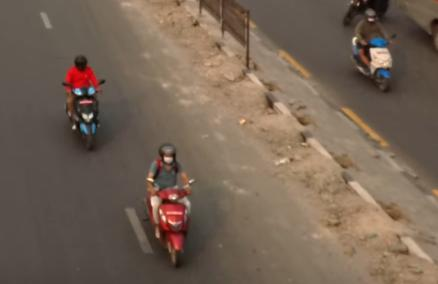scooter: (148, 178, 200, 268), (60, 76, 111, 148), (350, 31, 399, 95)
